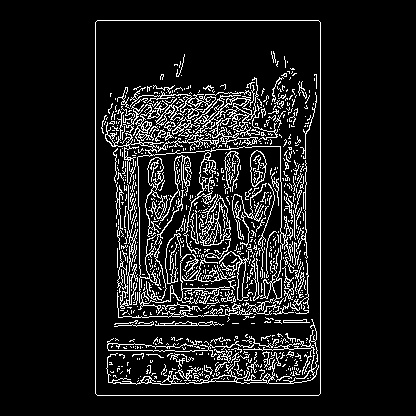buddha-sitting: (180, 152, 240, 303)
